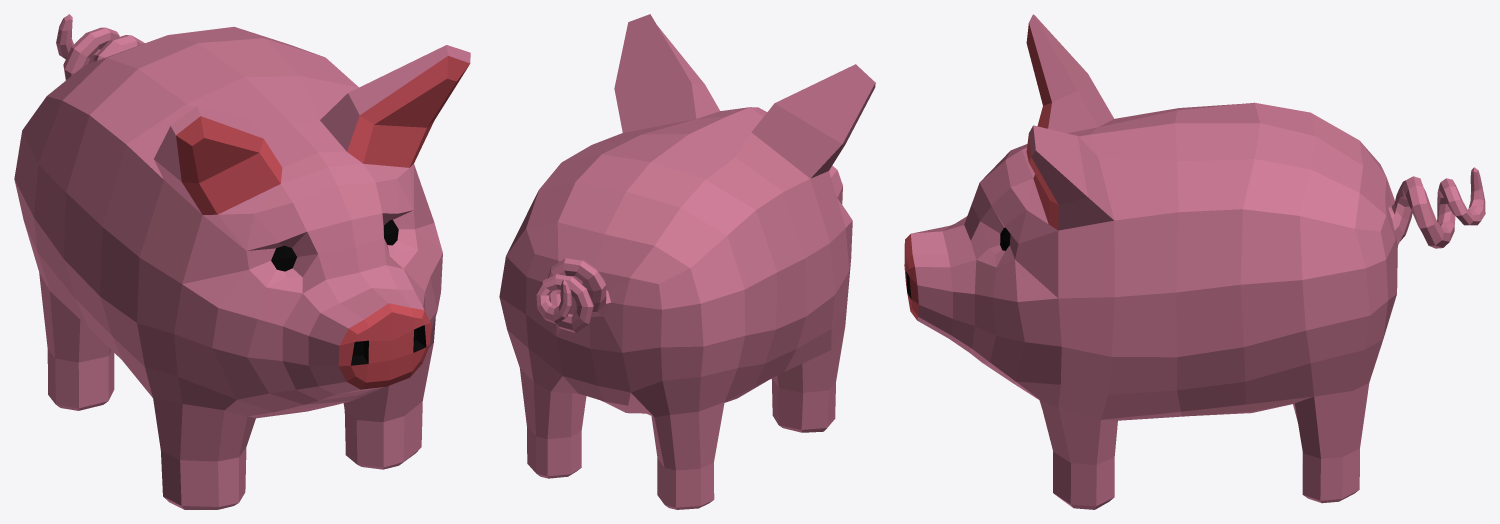
The model's file is petit_cochon.fbx.
3 views of the same model, side by side, from view 1: azimuth 30°, elevation 25°; view 2: azimuth 150°, elevation 25°; view 3: azimuth 270°, elevation 25° (orthographic). The views are drawn at different scales.
Parts seen in each view (by area): view 1: Cube; view 2: Cube; view 3: Cube.
Part boxes in pixels (x1,y1,x2,y2): Cube: (14, 14, 470, 509); Cube: (499, 14, 875, 509); Cube: (904, 14, 1485, 509).
Size of the model in its own units: 35.04 by 47.17 by 64.18.
